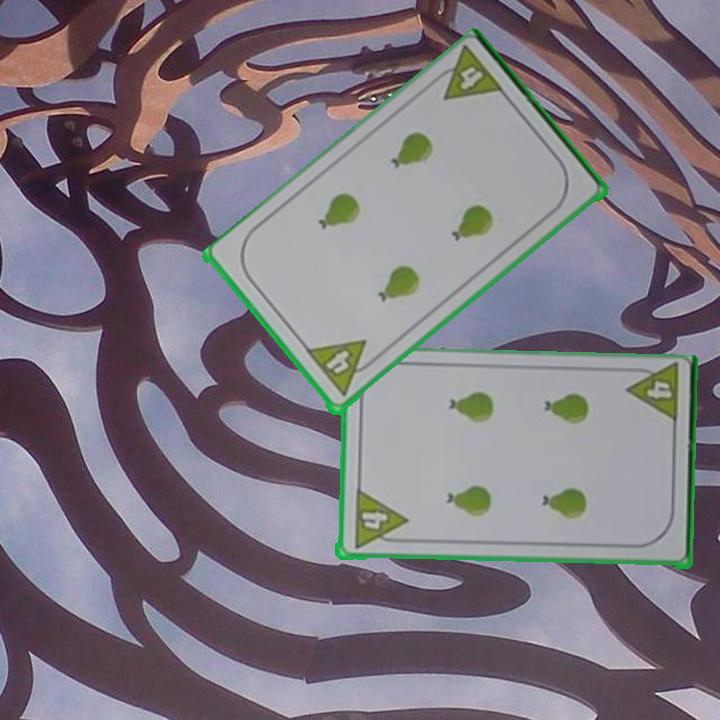4p: (426, 43, 508, 105), (303, 336, 381, 400), (622, 363, 682, 428), (349, 487, 408, 552)
